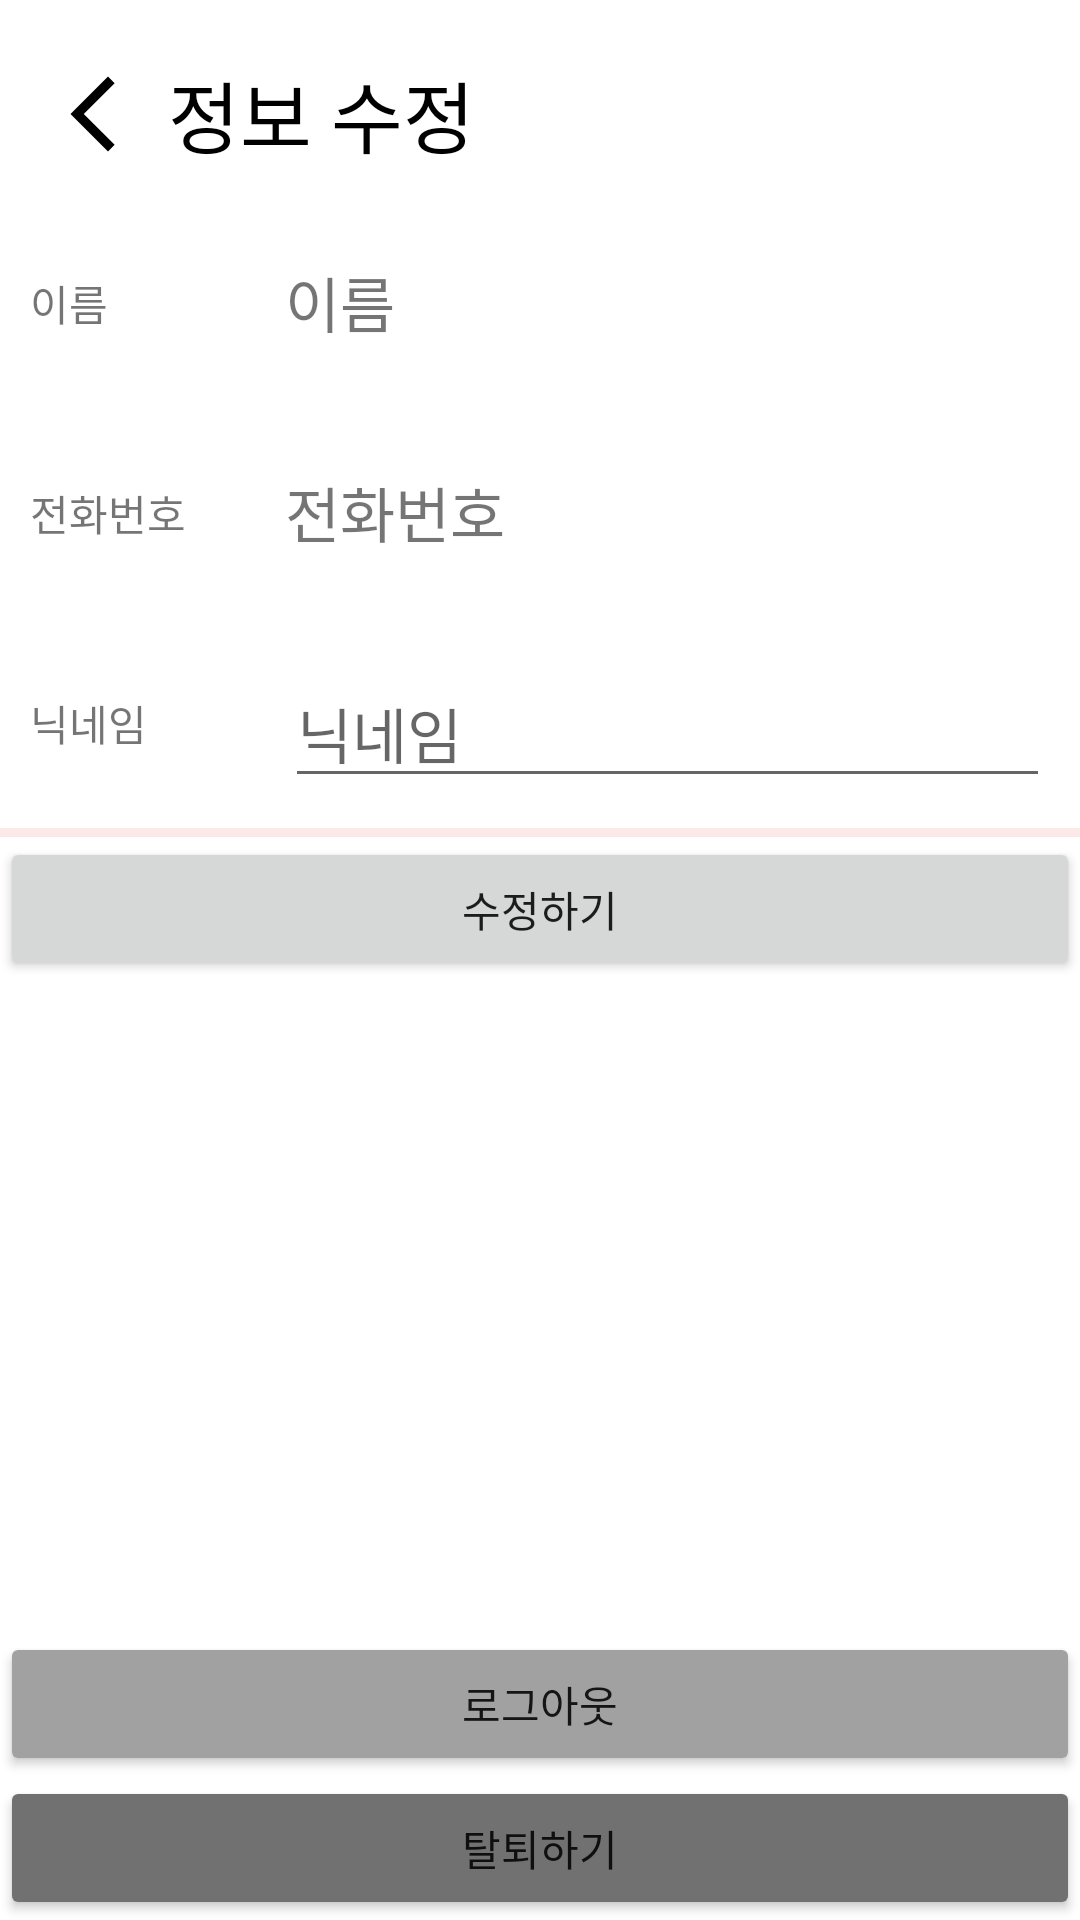

Point at icon controls on the screen. Image size 1080x1920, points as point (x, y).
back: point (92, 114)
